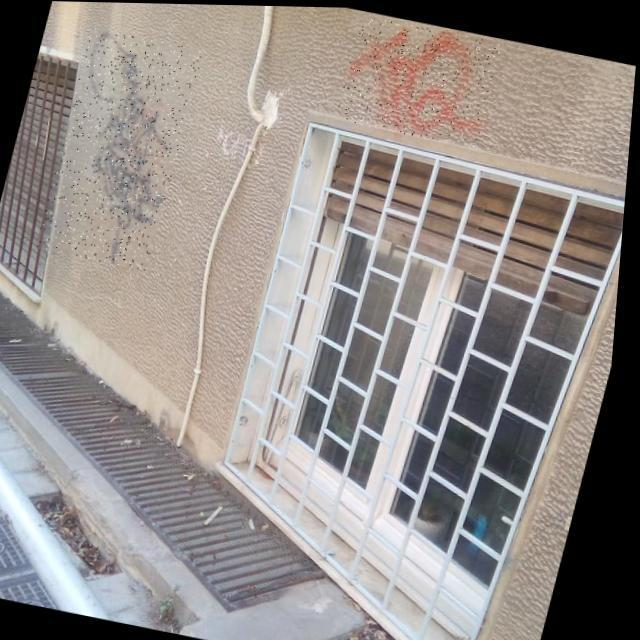-: (38, 26, 206, 271), (334, 12, 506, 146)
